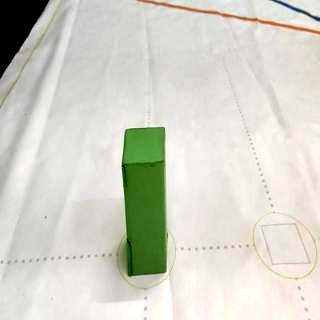greenbox: (122, 127, 168, 276)
